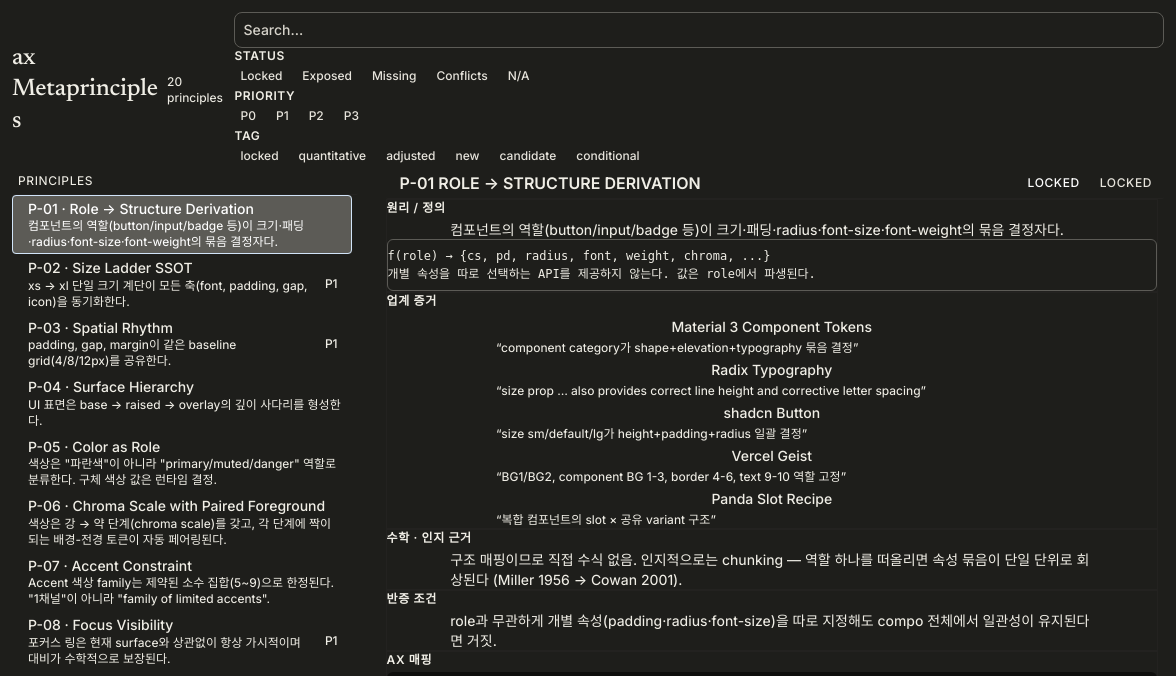
Test case: /ax-principles — screen integration › selection changes when a different option is clicked
The width and height of the screenshot is (1176, 676).
Click the option with aria-label "P-02 · Size Ladder SSOT" at (182, 284), box [12,254,352,314]
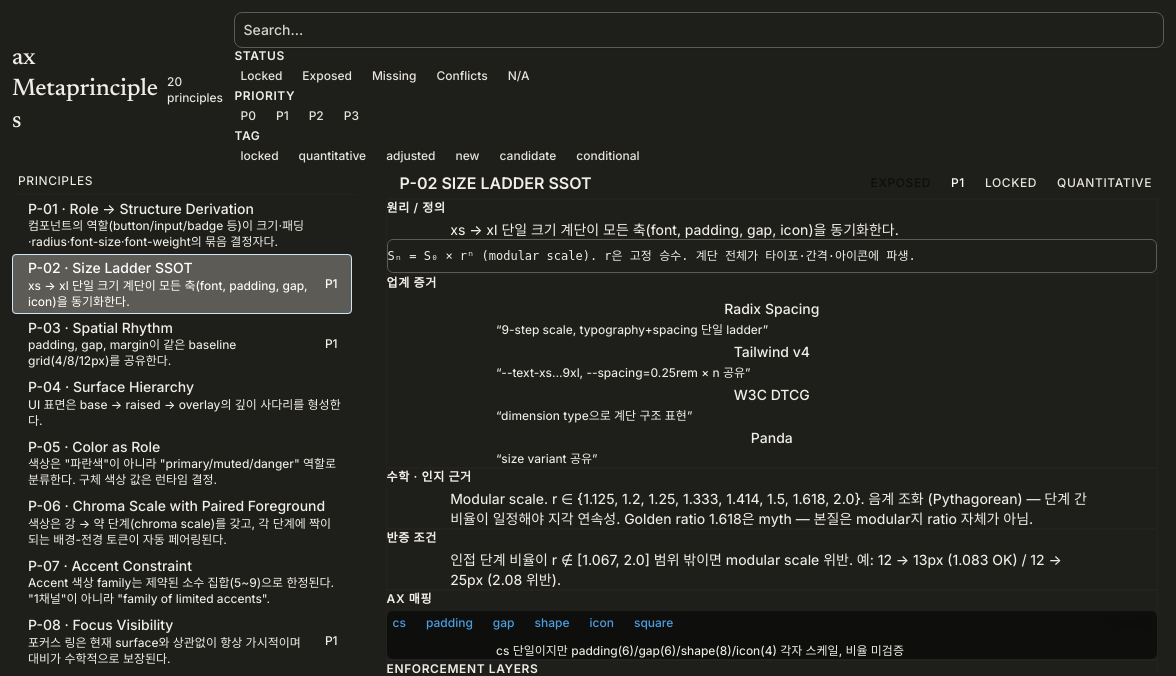
Check: the text with class "ts-section" shows "P-02", box [400,173,437,193]
Check: the text with class "ts-section" shows "Size Ladder", box [442,173,592,193]
